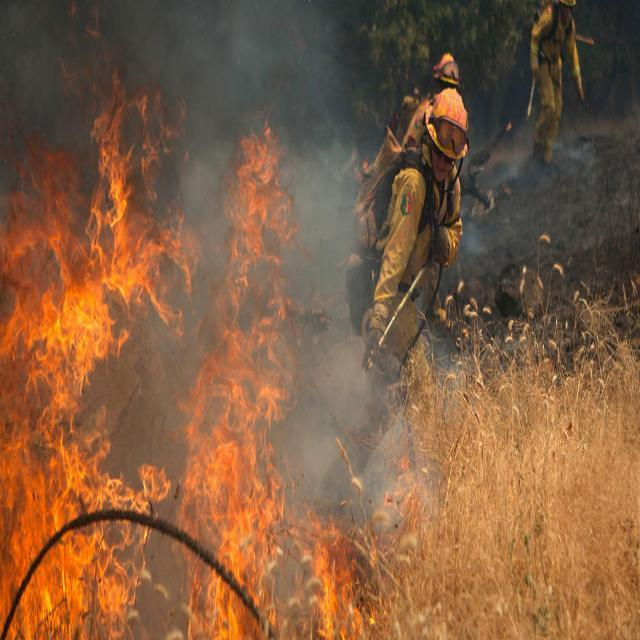Fire: (0, 64, 384, 640)
Smoke: (145, 0, 466, 552)
